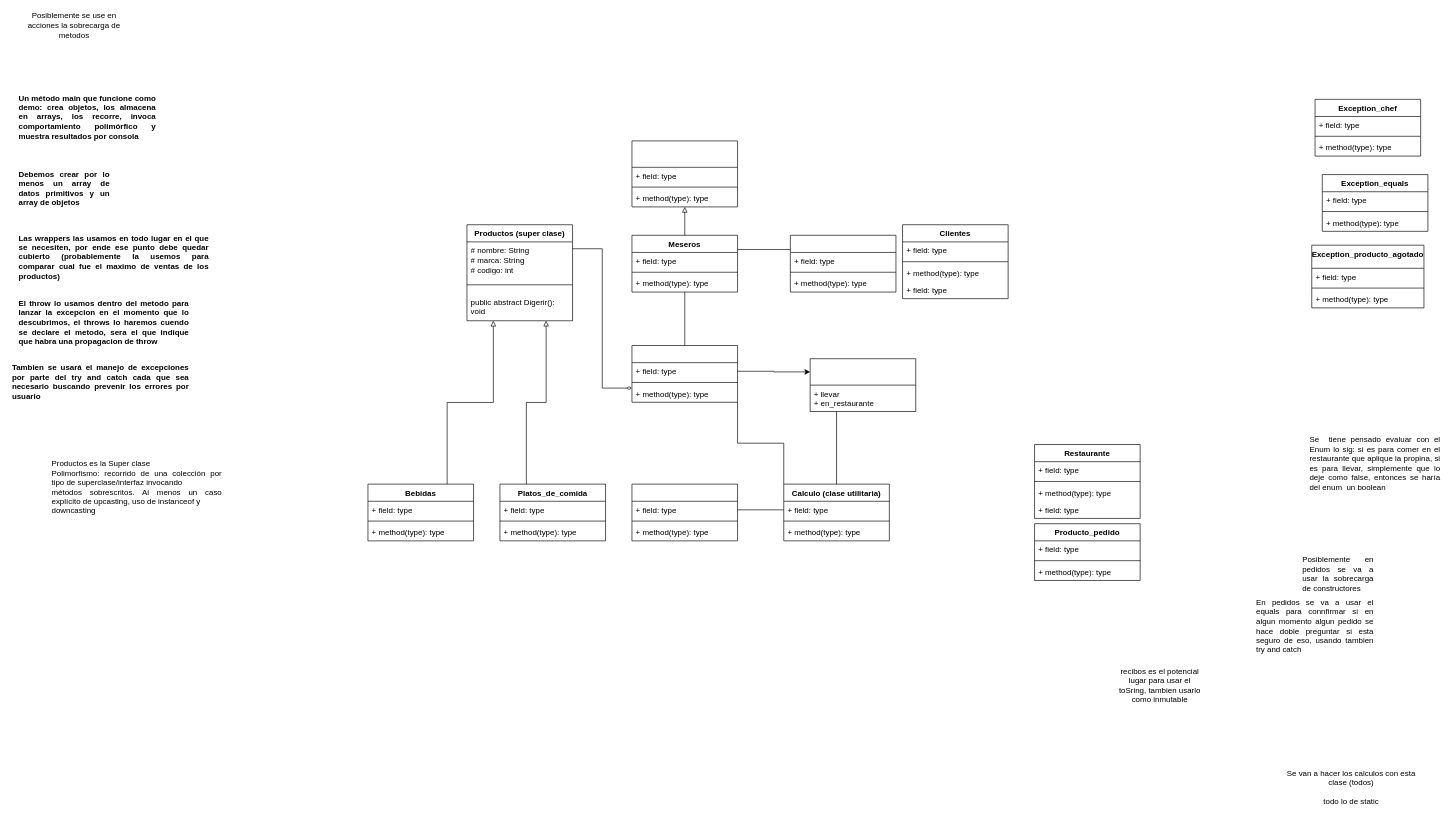
The diagram is 1452 pixels wide and 826 high, and some of its shapes have lost their labels. Each missing label, with the box of its shape:
Acciones_meseros (interface): (631, 140, 738, 207)
Mesas: (790, 235, 896, 292)
Pedidos: (631, 345, 738, 402)
Recibos: (631, 483, 738, 541)
Tipo_orden (Enum): (809, 358, 916, 412)
